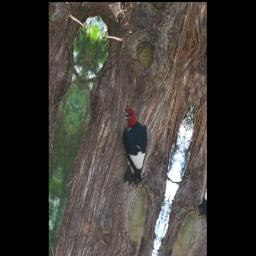Woodpecker: (104, 102, 161, 192)
